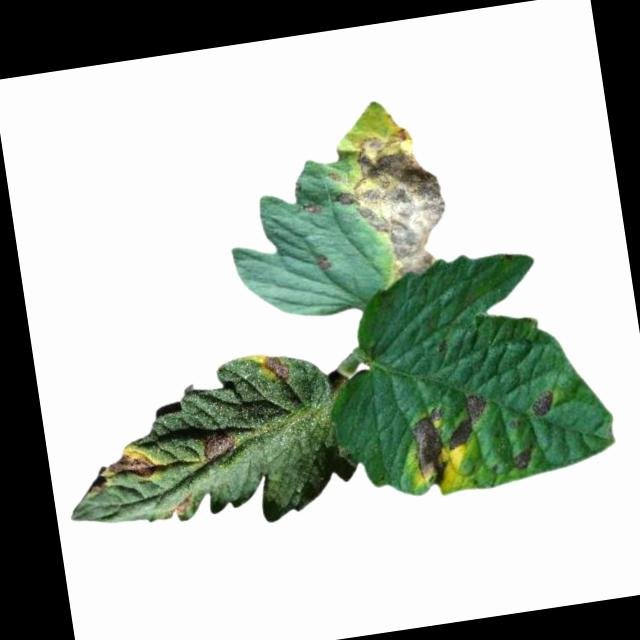Early_blight: (325, 123, 457, 289), (406, 391, 498, 486), (105, 443, 165, 486), (198, 427, 243, 466), (262, 354, 293, 386), (512, 446, 540, 472), (531, 393, 558, 418), (170, 493, 194, 517), (313, 253, 333, 275), (304, 201, 327, 220)
